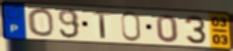0: (154, 12, 180, 44), (120, 10, 143, 43)
3: (183, 14, 208, 45)
9: (57, 7, 82, 40)
O: (26, 7, 56, 38)
T: (91, 10, 112, 40)
